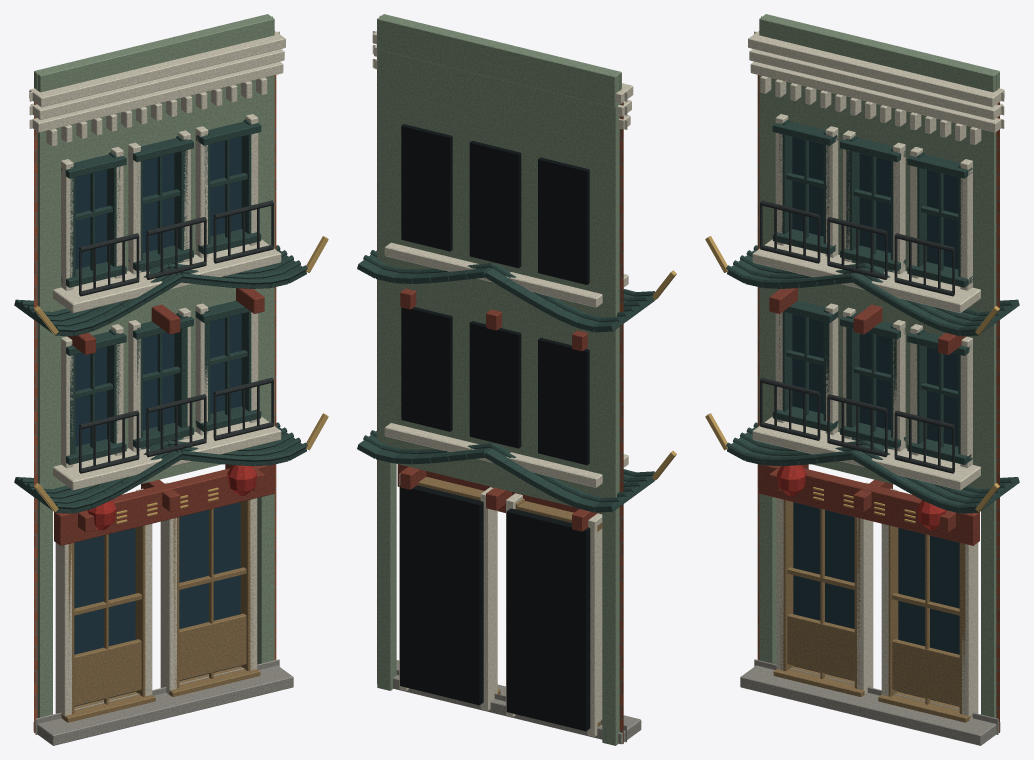
File: CHINA14_lod1.glb
3 views of the same model, side by side, from view 1: azimuth 30°, elevation 25°; view 2: azimuth 150°, elevation 25°; view 3: azimuth 330°, elevation 25° (orthographic).
Visible parts, largest first — view 1: CHINA14_FRONT_LOD1; view 2: CHINA14_FRONT_LOD1; view 3: CHINA14_FRONT_LOD1.
Part boxes in pixels (x1,y1,x2,y2): CHINA14_FRONT_LOD1: (14, 14, 328, 745); CHINA14_FRONT_LOD1: (357, 14, 676, 745); CHINA14_FRONT_LOD1: (705, 14, 1019, 745).
Bounding box in the file's own units: 4.49 × 9.66 × 1.13.
Materials: 13 (10 with a texture image).
